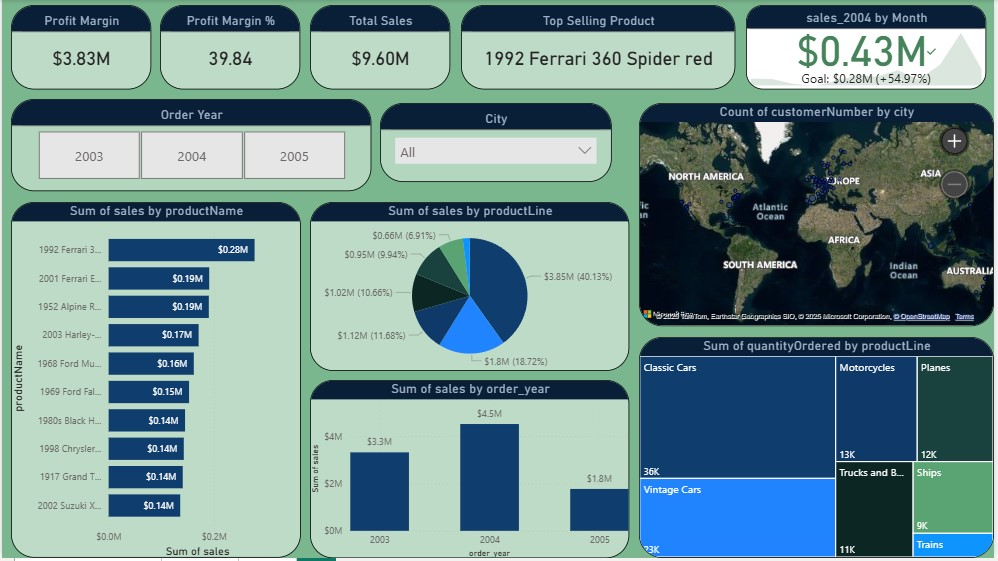

The page's visual inventory and layout, read from the dashboard file:
{"tool":"powerbi","page":{"name":"Dashboard on sales","canvas":[1280,720],"ordinal":0},"visuals":[{"type":"card","title":"Top Selling Product","fields":{"Values":["orderDetails.Most Sold Product Name"]},"box":[592.4,7.1,354.3,109.1],"z":0},{"type":"card","title":"Total Sales","fields":{"Values":["orders.total_sales"]},"box":[396.9,7.1,181.4,109.1],"z":1000},{"type":"barChart","fields":{"Category":["products.productName"],"Y":["Sum(orderDetails.sales)"]},"box":[11.3,260.8,374.2,459.2],"z":2000},{"type":"pieChart","fields":{"Category":["productlines.productLine"],"Y":["Sum(orderDetails.sales)"]},"box":[396.9,260.8,412.4,218.3],"z":3000},{"type":"slicer","title":"Order Year","fields":{"Values":["orders.order_year"]},"box":[11.3,127.6,464.9,119.1],"z":4000},{"type":"kpi","title":"sales_2004 by Month ","fields":{"Indicator":["orders.sales_2004"],"Goal":["orders.sales_2003"],"TrendLine":["orders.Month Name"]},"box":[959.5,7.1,310.4,109.1],"z":5000},{"type":"columnChart","fields":{"Category":["orders.order_year"],"Y":["Sum(orderDetails.sales)"]},"box":[396.9,490.4,412.4,229.6],"z":6000},{"type":"map","fields":{"Category":["customers.city"],"Size":["CountNonNull(customers.customerNumber)"]},"box":[822,133.2,457.8,287.7],"z":7000},{"type":"treemap","fields":{"Group":["products.productLine"],"Values":["Sum(orderDetails.quantityOrdered)"]},"box":[822,435.1,457.8,284.9],"z":8000},{"type":"card","title":"Profit Margin %","fields":{"Values":["orderDetails.total_profit_%"]},"box":[204.1,7.1,181.4,109.1],"z":9000},{"type":"card","title":"Profit Margin","fields":{"Values":["orderDetails.total_profit"]},"box":[11.3,7.1,181.4,109.1],"z":10000},{"type":"slicer","title":"City","fields":{"Values":["customers.city"]},"box":[487.6,133.2,299.1,102],"z":11000}]}

Visuals, with their boxes in screenshot pixels (x1, y1, x2, y2), scaled from the page's 1280x720 canvas onto the 998x561 screenshot:
"Top Selling Product" card: x1=462, y1=6, x2=738, y2=91
"Total Sales" card: x1=309, y1=6, x2=451, y2=91
barChart - products.productName x Sum(orderDetails.sales): x1=9, y1=203, x2=301, y2=560
pieChart - productlines.productLine x Sum(orderDetails.sales): x1=309, y1=203, x2=631, y2=373
"Order Year" slicer: x1=9, y1=99, x2=371, y2=192
"sales_2004 by Month " kpi: x1=748, y1=6, x2=990, y2=91
columnChart - orders.order_year x Sum(orderDetails.sales): x1=309, y1=382, x2=631, y2=560
map - customers.city x CountNonNull(customers.customerNumber): x1=641, y1=104, x2=997, y2=328
treemap - products.productLine x Sum(orderDetails.quantityOrdered): x1=641, y1=339, x2=997, y2=560
"Profit Margin %" card: x1=159, y1=6, x2=301, y2=91
"Profit Margin" card: x1=9, y1=6, x2=150, y2=91
"City" slicer: x1=380, y1=104, x2=613, y2=183
